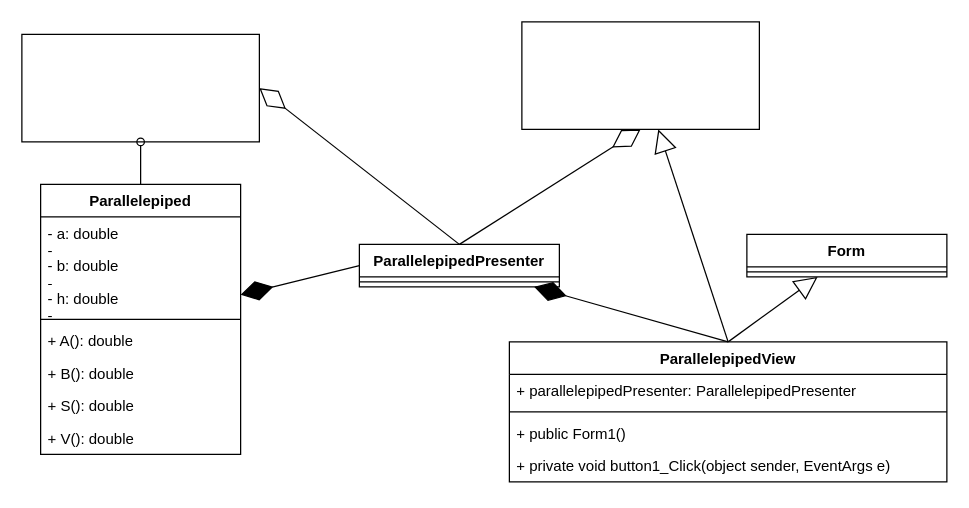
Some shapes in this 969 by 508 pixel diagram are drawn without their labels. Here are the shapes that lost their labels. From the top down, the centre of each, then its label:
the point at 140,87: <<Interface>> I ParallelepipedModel + double V() + double S()
the point at 640,75: <<Interface>> I ParallelepipedView + void SetV(double V) + void SetS(double S)
